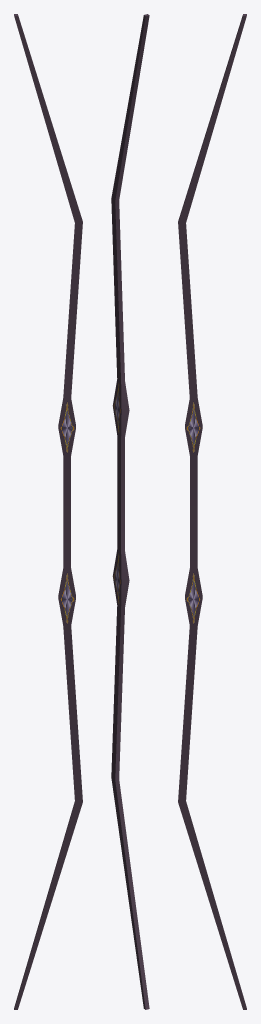
The model's file is homura_bow.fbx.
3 renders of one model, left to right at view 1: azimuth 90°, elevation 25°; view 2: azimuth 210°, elevation 25°; view 3: azimuth 270°, elevation 25°, orthographic.
Visible parts, largest first — view 1: hopmura_bow; view 2: hopmura_bow; view 3: hopmura_bow.
Part boxes in pixels (x1=…): hopmura_bow: x1=14, y1=14, x2=82, y2=1009; hopmura_bow: x1=111, y1=14, x2=149, y2=1009; hopmura_bow: x1=178, y1=14, x2=246, y2=1009.
Size of the model in its own units: 4.15 by 493 by 30.92.
